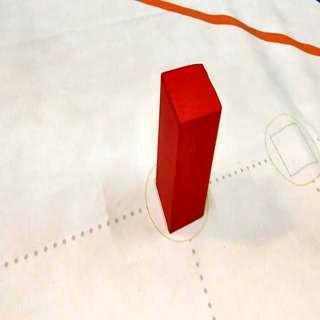redbox: (155, 61, 222, 235)
